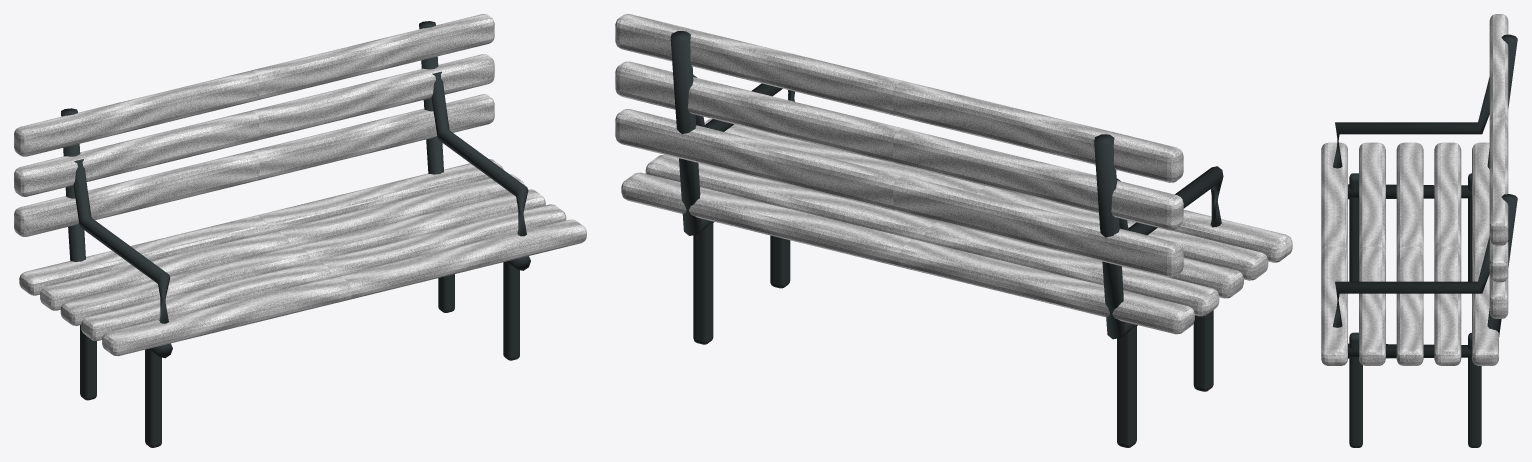
File: bench.glb
3 renders of one model, left to right at view 1: azimuth 30°, elevation 25°; view 2: azimuth 150°, elevation 25°; view 3: azimuth 270°, elevation 25°, orthographic. The views are drawn at different scales.
Parts seen in each view (by area): view 1: bench_body; view 2: bench_body; view 3: bench_body.
Boxes of the visible parts, box(x1,y1,x2,y2) form: bench_body: box(14, 14, 586, 447); bench_body: box(615, 14, 1292, 447); bench_body: box(1321, 14, 1517, 447).
Size of the model in its own units: 1.86 by 1.02 by 0.7298.
2 materials, 1 textured.
